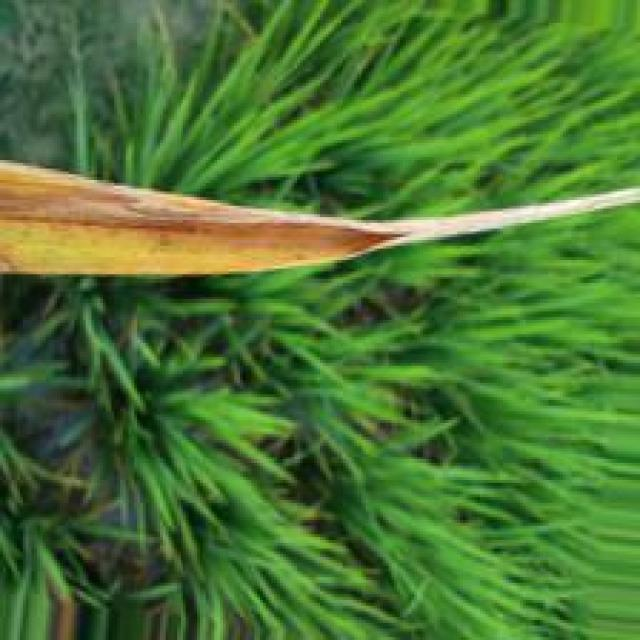Bacterial_Leaf_Blight: (2, 161, 485, 278)
